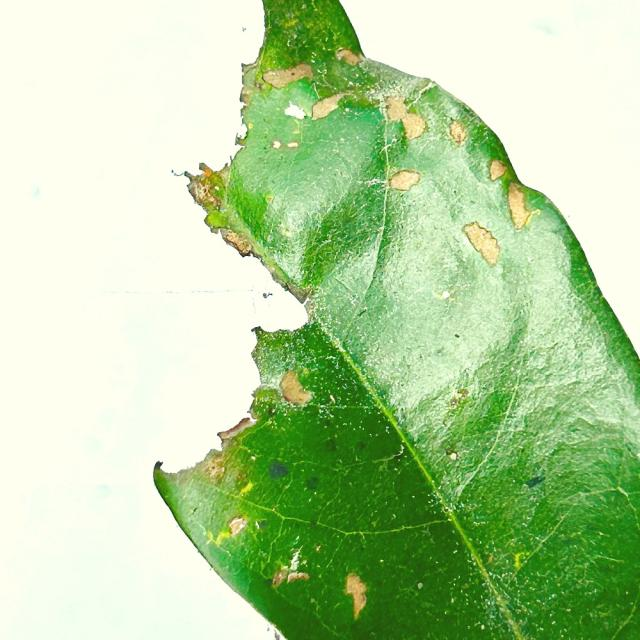Deficiency Leaf: (108, 159, 262, 479), (168, 0, 264, 189)
Lychee: (154, 0, 639, 639)
